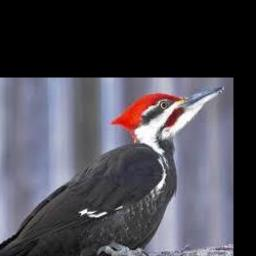Woodpecker: (0, 85, 225, 256)
